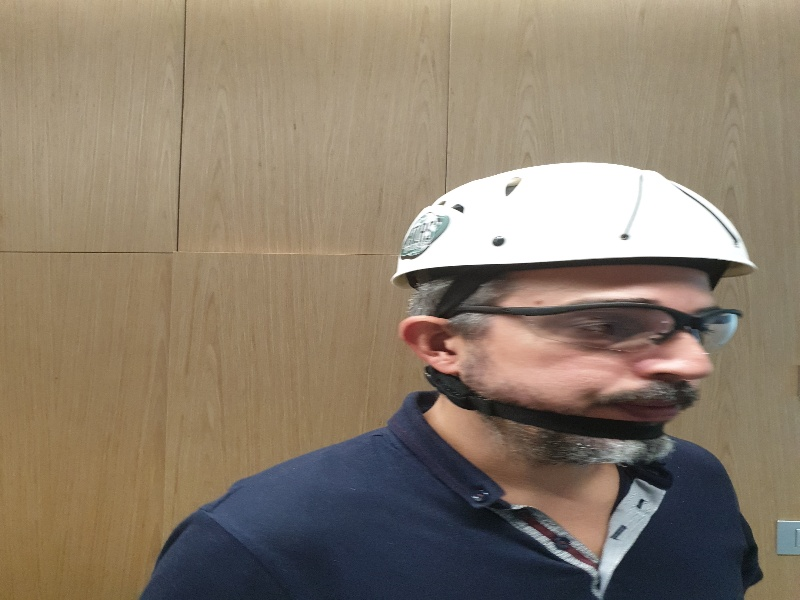Baret: (392, 161, 758, 282)
Gozluk: (460, 299, 747, 352)
